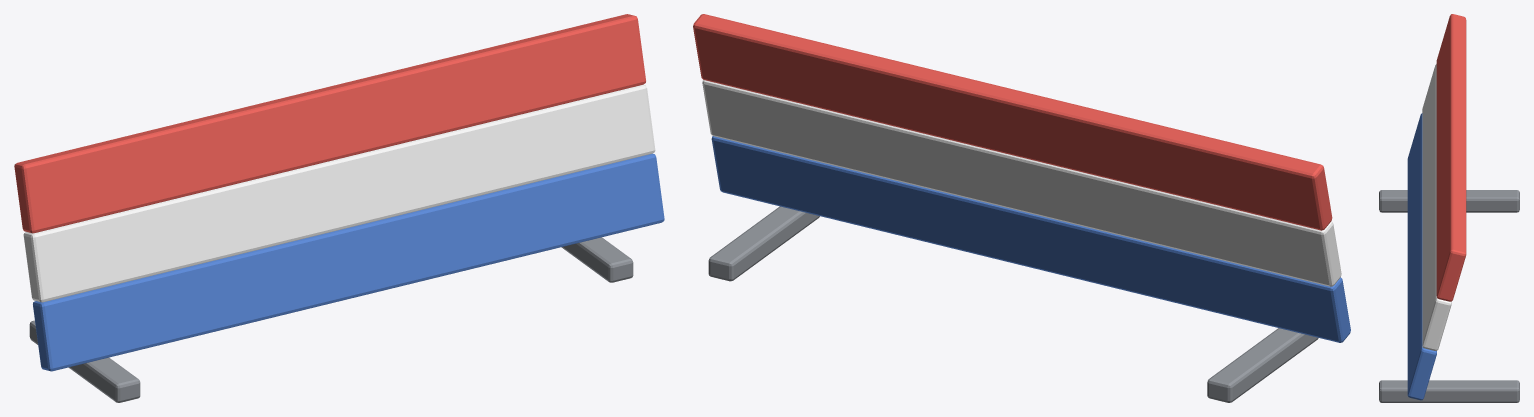
The model's file is barrier_lod0.fbx.
The picture shows the model from 3 angles, left to right: view 1: azimuth 30°, elevation 25°; view 2: azimuth 150°, elevation 25°; view 3: azimuth 270°, elevation 25°; orthographic projection. The views are drawn at different scales.
Parts seen in each view (by area): view 1: barrier; view 2: barrier; view 3: barrier.
Part boxes in pixels (left/top/right/bottom): barrier: left=14, top=14, right=664, bottom=402; barrier: left=693, top=14, right=1350, bottom=402; barrier: left=1379, top=14, right=1519, bottom=402.
Bounding box in the file's own units: 2 × 0.6748 × 0.5.
